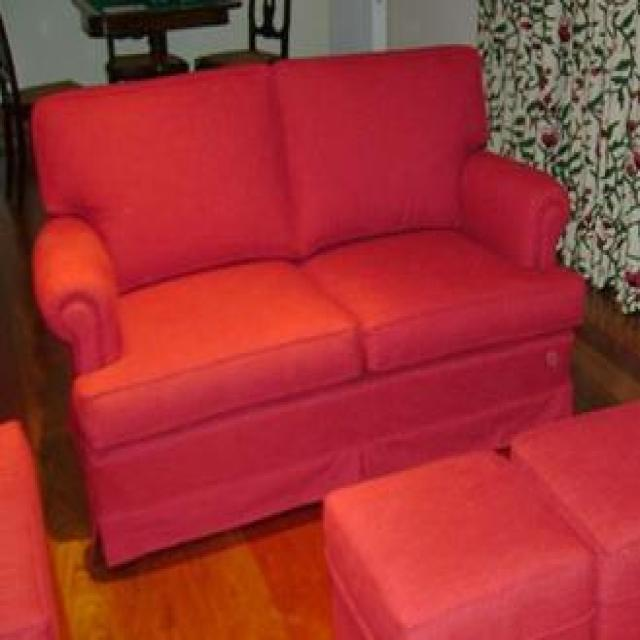sofa: (32, 44, 588, 572)
